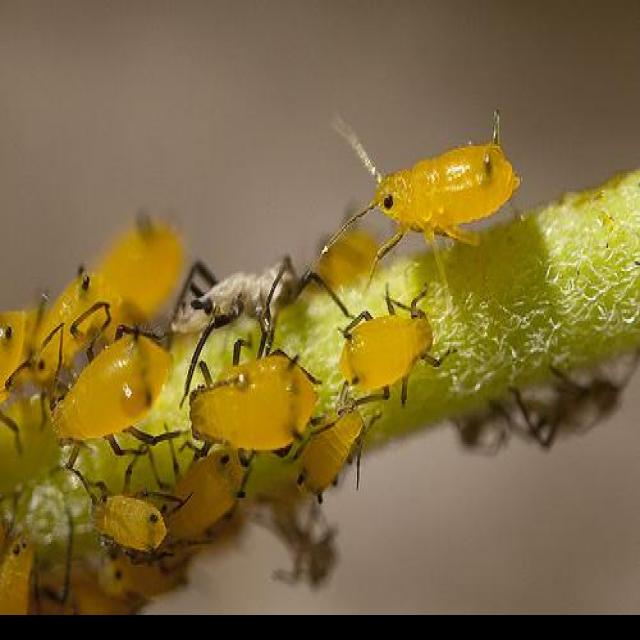Aphids: (315, 100, 531, 292), (183, 328, 349, 504), (23, 313, 182, 465), (319, 278, 472, 424)
